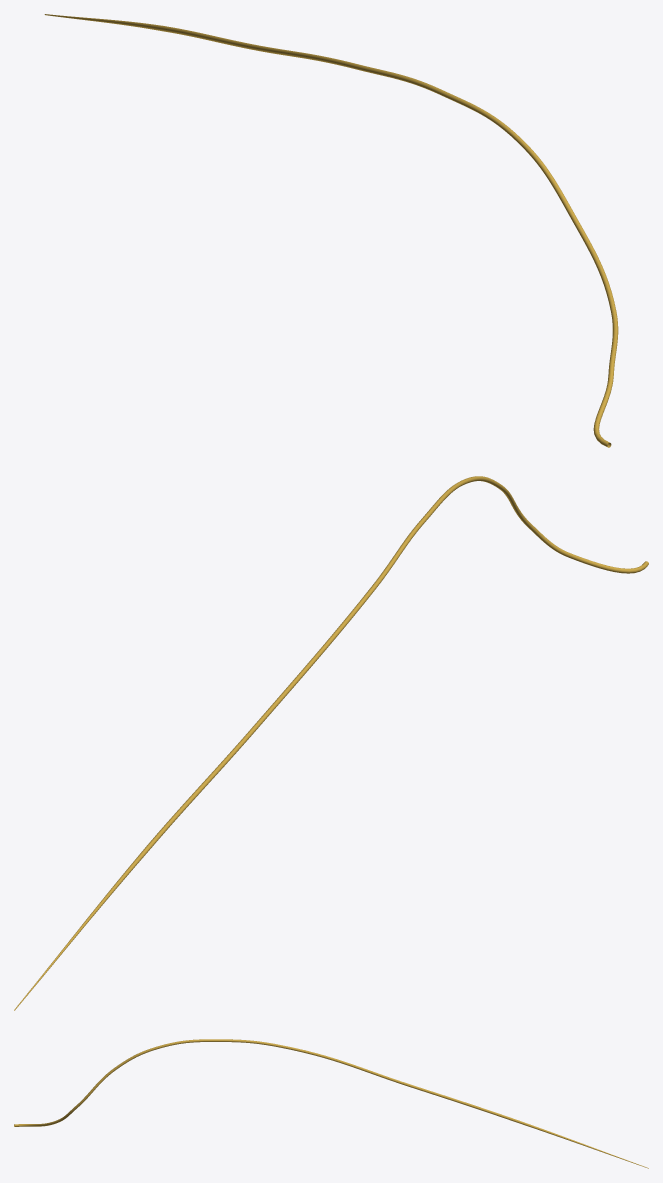
3 renders of one model, top to bottom at view 1: azimuth 30°, elevation 25°; view 2: azimuth 150°, elevation 25°; view 3: azimuth 270°, elevation 25°, orthographic. The views are drawn at different scales.
Visible parts, largest first — view 1: 左侧前臂后皮神经; view 2: 左侧前臂后皮神经; view 3: 左侧前臂后皮神经.
Boxes of the visible parts, x1=… form: 左侧前臂后皮神经: x1=44, y1=14, x2=618, y2=447; 左侧前臂后皮神经: x1=14, y1=476, x2=648, y2=1010; 左侧前臂后皮神经: x1=14, y1=1039, x2=648, y2=1168.
Size of the model in its own units: 0.0234 by 0.0729 by 0.3401.
